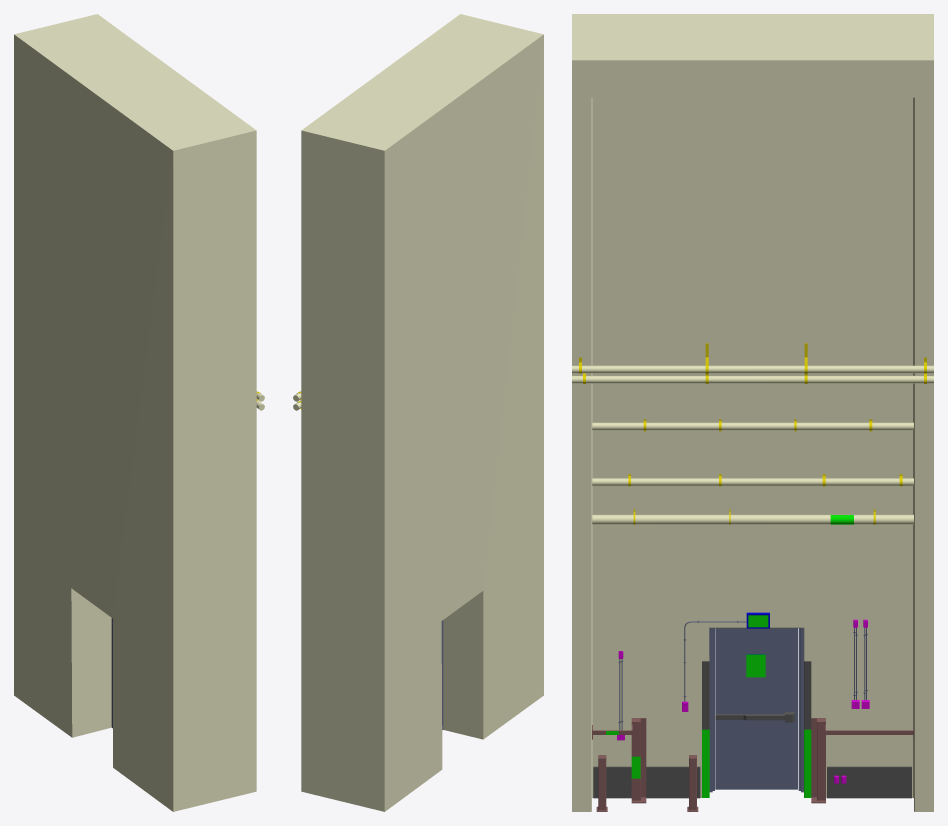
File: wall_door_GRP.fbx
3 renders of one model, left to right at view 1: azimuth 30°, elevation 25°; view 2: azimuth 150°, elevation 25°; view 3: azimuth 270°, elevation 25°, orthographic. The views are drawn at different scales.
Visible parts, largest first — view 1: wall_door_01; view 2: wall_door_01; view 3: wall_door_01, exit_door_01, footGuard_02, wall_pipe_11, wall_pipe_08, wall_pipe_07, wall_pipe_09, wall_pipe_10, decals_wall_door, exit_door_frame_01, wall_barrier_03, wall_barrier_04 (+3 smaller).
Boxes of the visible parts, x1,y1,x2,y2 form: wall_door_01: [14, 14, 256, 811]; wall_door_01: [301, 14, 543, 811]; wall_door_01: [572, 14, 933, 811]; exit_door_01: [715, 628, 797, 789]; footGuard_02: [593, 766, 911, 798]; wall_pipe_11: [592, 514, 913, 524]; wall_pipe_08: [572, 375, 933, 383]; wall_pipe_07: [572, 365, 933, 373]; wall_pipe_09: [592, 422, 913, 430]; wall_pipe_10: [592, 478, 913, 485]; decals_wall_door: [606, 515, 853, 797]; exit_door_frame_01: [709, 628, 803, 792]; wall_barrier_03: [811, 718, 913, 803]; wall_barrier_04: [592, 718, 646, 803].
Size of the model in its own units: 134 by 917 by 400.
